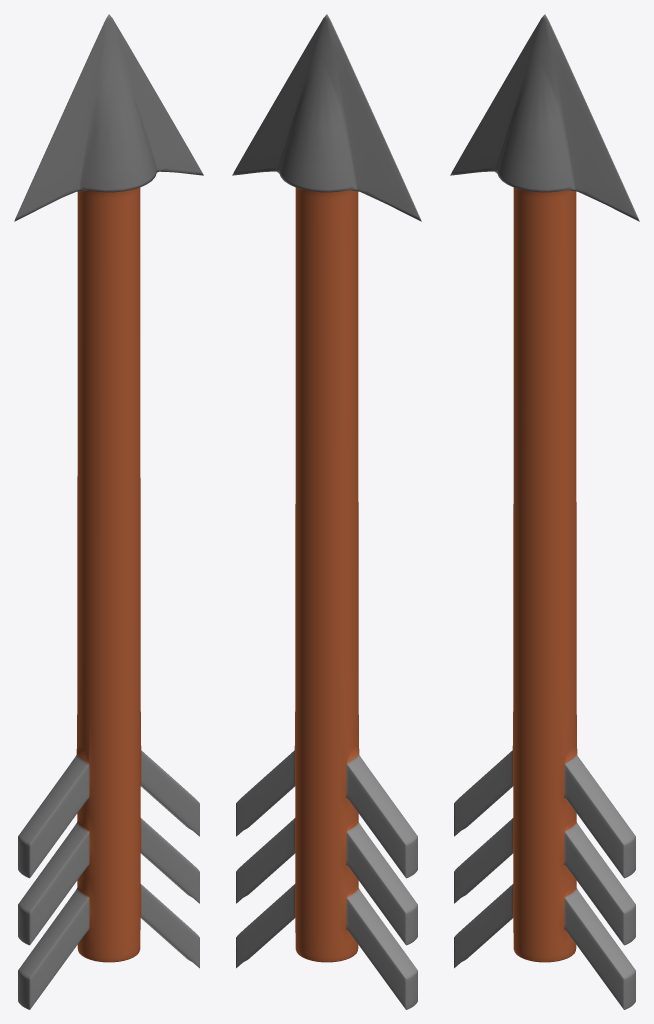
Rendered from Arrow.fbx.
The picture shows the model from 3 angles, left to right: view 1: azimuth 30°, elevation 25°; view 2: azimuth 150°, elevation 25°; view 3: azimuth 330°, elevation 25°; orthographic projection.
Visible parts, largest first — view 1: Arrow; view 2: Arrow; view 3: Arrow.
Part boxes in pixels (bbox=[...]): Arrow: bbox=[14, 14, 203, 1009]; Arrow: bbox=[232, 14, 421, 1009]; Arrow: bbox=[450, 14, 639, 1009].
Bounding box in the file's own units: 55.96 × 274 × 24.28.
